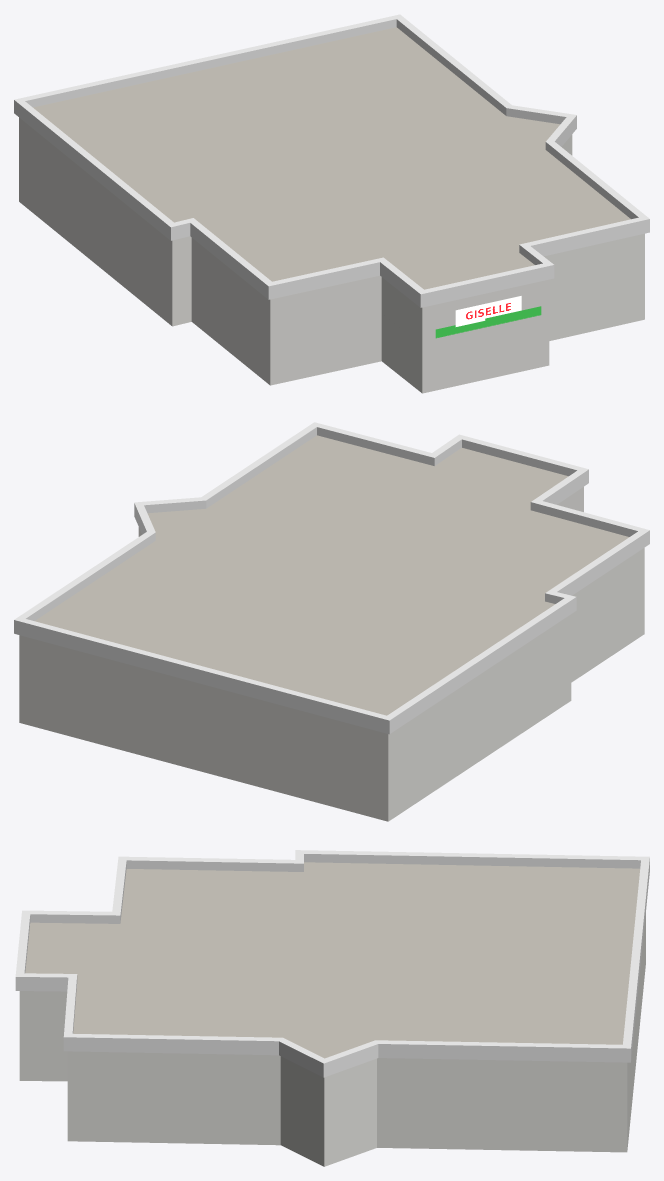
The model's file is giselle.glb.
3 views of the same model, one above another, from view 1: azimuth 30°, elevation 25°; view 2: azimuth 150°, elevation 25°; view 3: azimuth 270°, elevation 25° (orthographic). The views are drawn at different scales.
Parts seen in each view (by area): view 1: giselle_lod0; view 2: giselle_lod0; view 3: giselle_lod0.
Boxes of the visible parts, x1,y1,x2,y2 form: giselle_lod0: (14, 14, 649, 393); giselle_lod0: (14, 422, 649, 821); giselle_lod0: (15, 850, 649, 1166).
Size of what is drawn, in the model's own units: 32.51 by 7.5 by 40.92.
5 materials, 2 textured.
